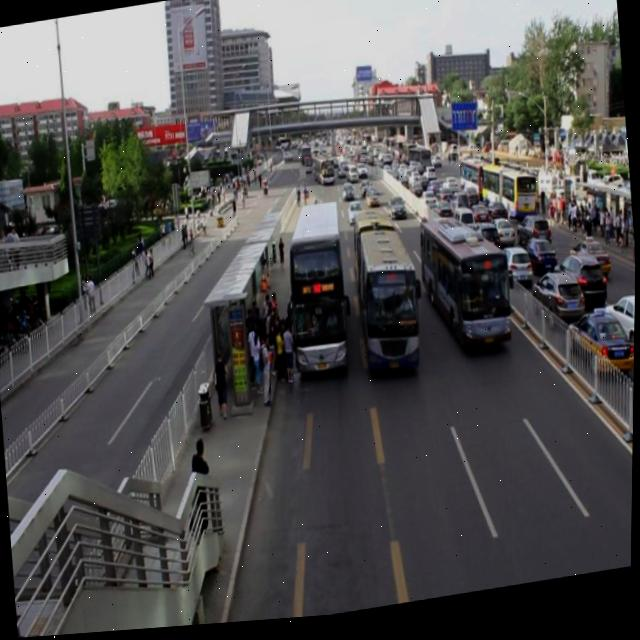car: (387, 199, 406, 225), (365, 191, 379, 215), (348, 205, 362, 229), (341, 184, 355, 202), (355, 164, 366, 182), (359, 184, 371, 200), (335, 165, 345, 184)
truck: (347, 166, 359, 189)
van: (416, 209, 512, 364), (350, 207, 421, 384), (283, 205, 352, 379), (313, 159, 334, 192)
